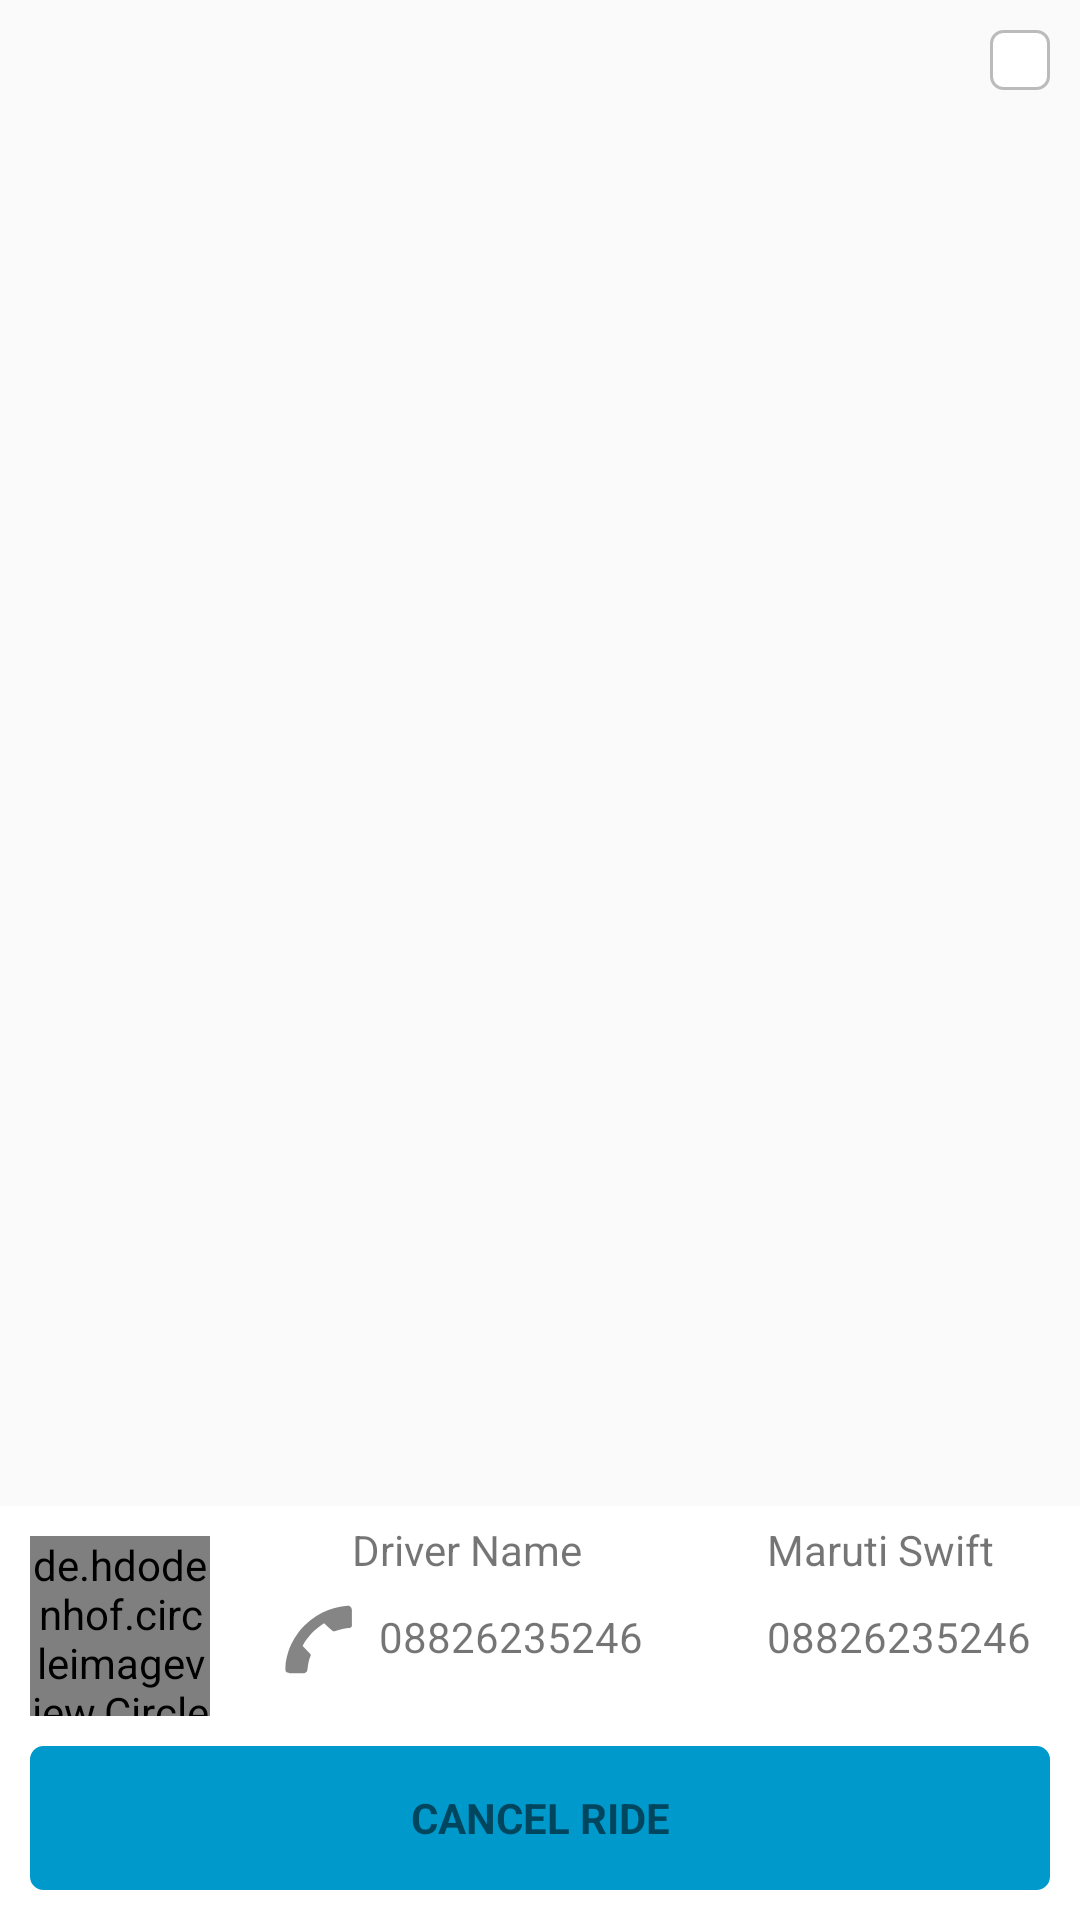

Icons on this 1080*1920 Android screen, each with the point to tap as (x=x, y=y):
contact: (x=318, y=1639)
